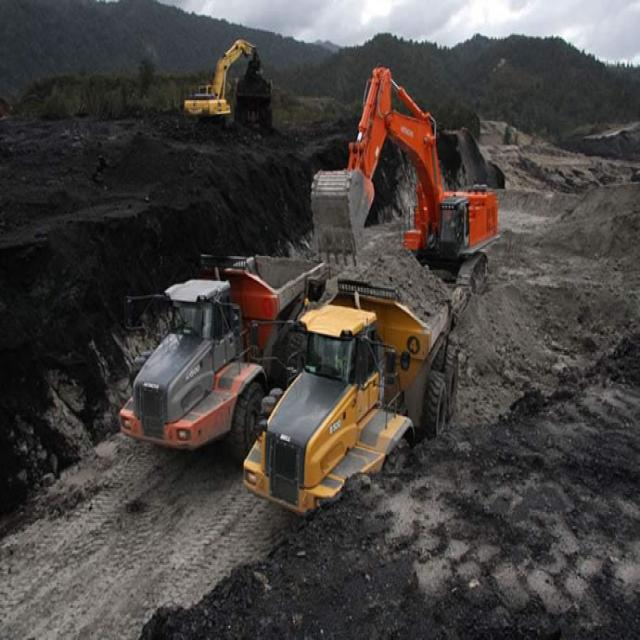dump_truck: (230, 280, 495, 523), (113, 237, 288, 473), (233, 71, 278, 132)
excavator: (303, 64, 503, 280), (179, 26, 255, 148)
